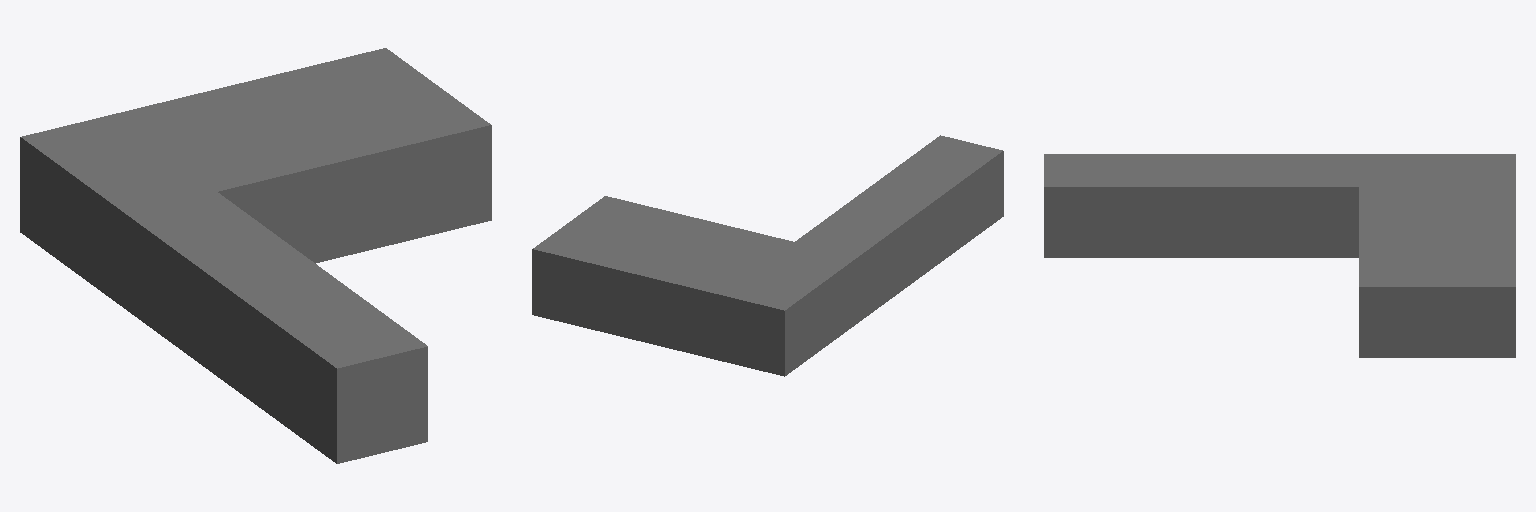
URDF robot description (plane):
<?xml version="0.0" ?>
<robot name="plane">
  <link name="planeLink">
  <contact>
      <lateral_friction value="1"/>
  </contact>
    <inertial>
      <origin rpy="0 0 0" xyz="0 0 0"/>
       <mass value=".0"/>
       <inertia ixx="0" ixy="0" ixz="0" iyy="0" iyz="0" izz="0"/>
    </inertial>
  </link>
    <joint name="box_3_joint" type="fixed">
      <origin rpy="0 0 0" xyz="0 0 0.05"/>
      <parent link="planeLink"/>
      <child link="box_3"/>
    </joint>

    <link name="box_3">
    	<visual>
        <origin rpy="0 0 0" xyz="0 -0.5 0"/>
        <geometry>
  	 	<box size="0.5 3 0.5"/>
        </geometry>
        <material name="grey">
  	    <color rgba="0.5 0.5 0.5 1"/>
  	  </material>
      </visual>
      <collision>
        <origin rpy="0 0 0" xyz="0 -0.5 0"/>
        <geometry>
  	 	<box size="0.5 3 0.5"/>
        </geometry>
      </collision>
      <inertial>
        <mass value="1"/>
        <inertia ixx="0.0" ixy="0.0" ixz="0.0" iyy="0.0" iyz="0.0" izz="0.0"/>
      </inertial>
    </link>


        <joint name="box_4_joint" type="fixed">
      <origin rpy="0 0 0" xyz="0 0 0.05"/>
      <parent link="planeLink"/>
      <child link="box_4"/>
    </joint>

    <link name="box_4">
    	<visual>
        <origin rpy="0 0 0" xyz="1 0.5 0"/>
        <geometry>
  	 	<box size="1.5 1 0.5"/>
        </geometry>
        <material name="grey">
  	    <color rgba="0.5 0.5 0.5 1"/>
  	  </material>
      </visual>
      <collision>
        <origin rpy="0 0 0" xyz="1 0.5 0"/>
        <geometry>
  	 	<box size="1.5 1 0.5"/>
        </geometry>
      </collision>
      <inertial>
        <mass value="1"/>
        <inertia ixx="0.0" ixy="0.0" ixz="0.0" iyy="0.0" iyz="0.0" izz="0.0"/>
      </inertial>
    </link>

</robot>

--- Render facts (derived) ---
3 views of the same robot in one strip: view 1: azimuth 30°, elevation 25°; view 2: azimuth 150°, elevation 25°; view 3: azimuth 270°, elevation 25° (orthographic).
Model plane with 3 links and 2 joints (2 fixed), rooted at planeLink, posed all joints at 0.
Links seen in each view (by area): view 1: box_3, box_4; view 2: box_3, box_4; view 3: box_3, box_4.
Boxes of the visible links, x1=… form: box_3: x1=20, y1=115, x2=427, y2=463; box_4: x1=112, y1=48, x2=491, y2=263; box_3: x1=722, y1=135, x2=1003, y2=376; box_4: x1=532, y1=196, x2=793, y2=360; box_3: x1=1044, y1=154, x2=1515, y2=257; box_4: x1=1359, y1=187, x2=1515, y2=357.
Bounding box of the posed robot: 2 × 3 × 0.5 m (x, y, z).
Geometry: primitives only (box / cylinder / sphere), no mesh files.